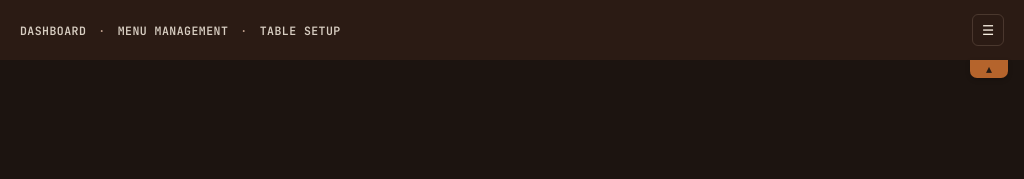
it: StaffBar menu (hamburger) › opens a menu with Payment Methods, Branches, and Log out for an admin session
Click the button named "Show menu" at (988, 30), box [972,14,1004,46]
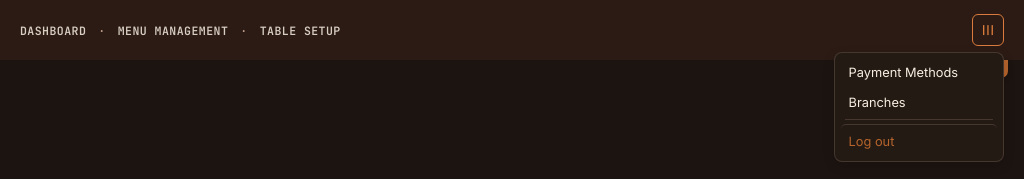
Now the menu is shown, box [834,52,1004,162]
Now the menu item "Log out" is shown, box [841,124,997,156]
